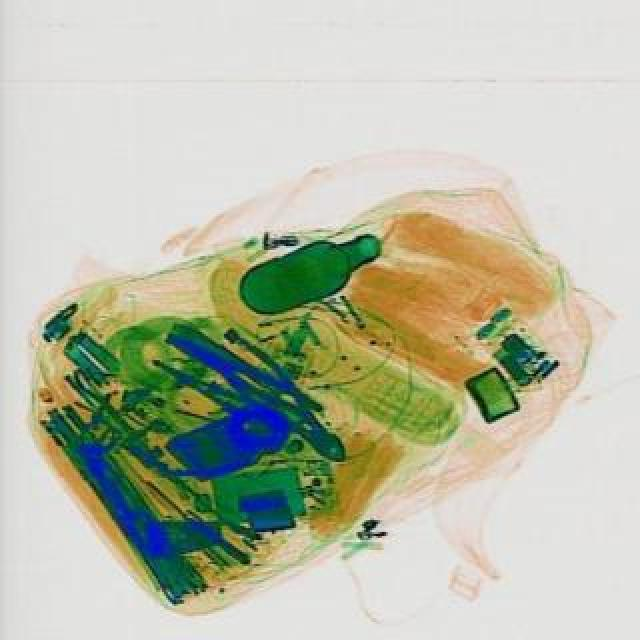wrench: (208, 332, 364, 476), (154, 318, 322, 432)
